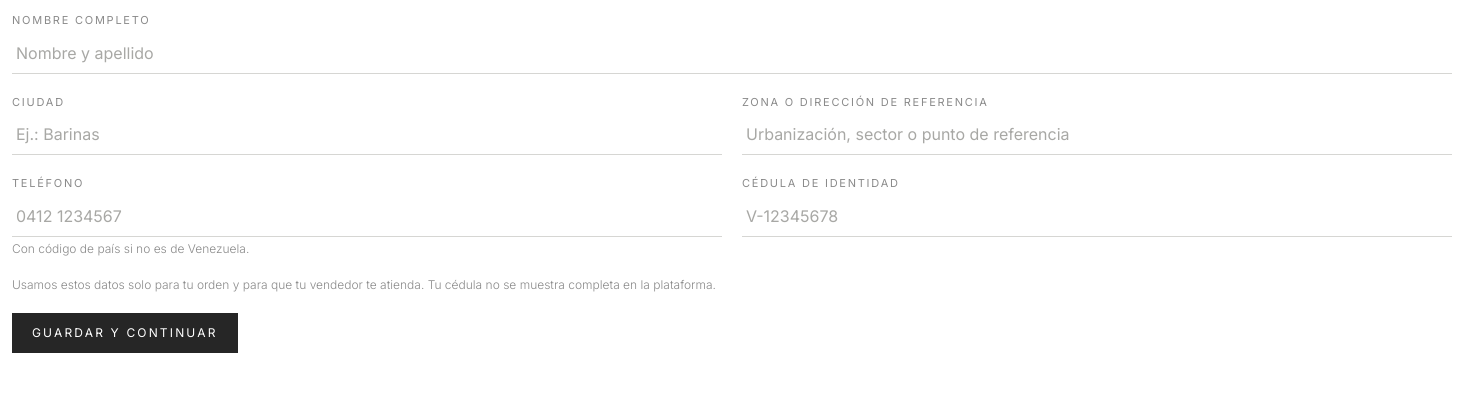
Test case: formulario de los cuatro datos › valida en el navegador y no envía datos inválidos
The width and height of the screenshot is (1464, 410).
Expected: the number of fields is 5, x1=12 y1=32 x2=1452 y2=74; x1=12 y1=114 x2=722 y2=155; x1=742 y1=114 x2=1452 y2=155; x1=12 y1=196 x2=722 y2=236; x1=742 y1=196 x2=1452 y2=236
Expected: the field labelled "Teléfono" is shown, x1=12 y1=196 x2=722 y2=236
Step 1. Click the button "Guardar y continuar" → {"x": 125, "y": 332}, box x1=12 y1=312 x2=238 y2=352
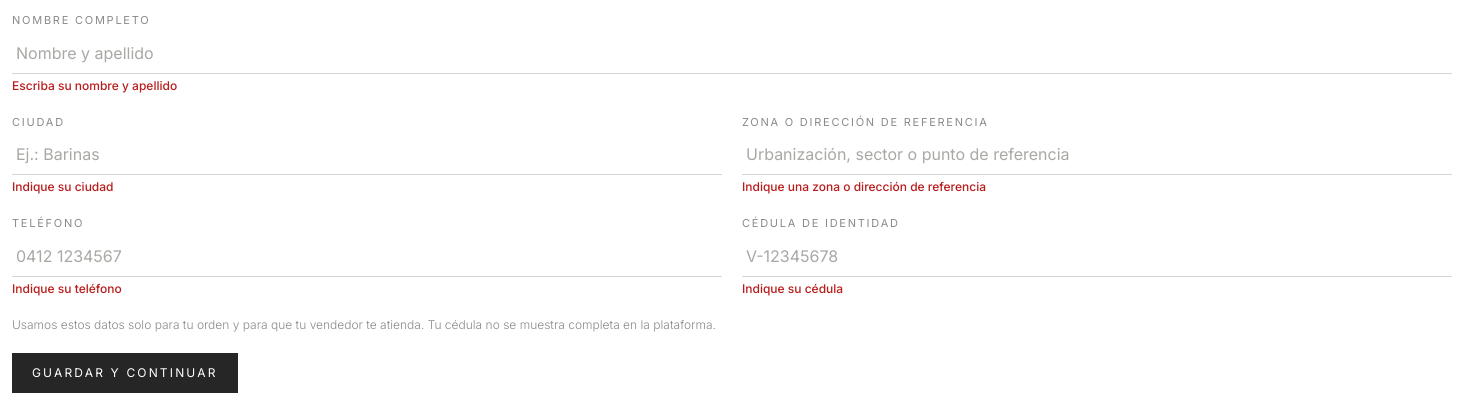
Expected: the text "Escriba su nombre y apellido" is shown, x1=12 y1=78 x2=177 y2=92
Expected: the text "Indique su ciudad" is shown, x1=12 y1=179 x2=114 y2=194
Expected: the text "Indique una zona o dirección de referencia" is shown, x1=742 y1=179 x2=986 y2=194
